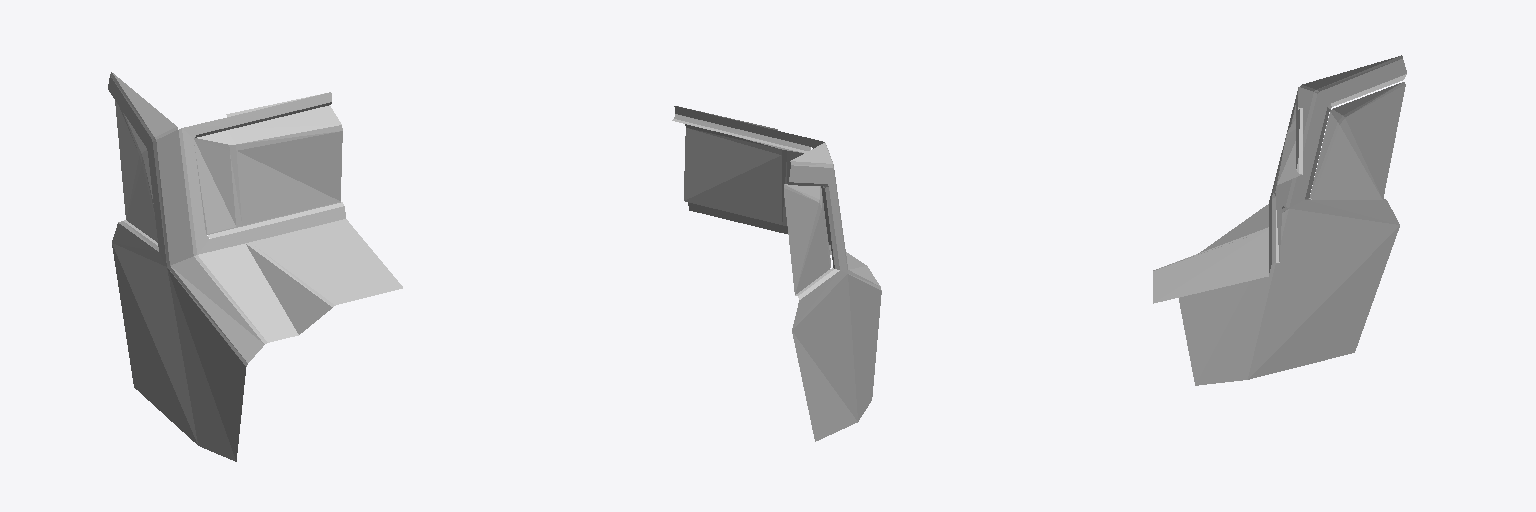
File: shard3.obj
The picture shows the model from 3 angles: view 1: azimuth 30°, elevation 25°; view 2: azimuth 150°, elevation 25°; view 3: azimuth 270°, elevation 25°; orthographic projection.
Parts seen in each view (by area): view 1: defaultMaterial.001; view 2: defaultMaterial.001; view 3: defaultMaterial.001.
Boxes of the visible parts, x1,y1,x2,y2 form: defaultMaterial.001: [108, 72, 402, 461]; defaultMaterial.001: [672, 106, 881, 441]; defaultMaterial.001: [1153, 55, 1406, 385].
Bounding box in the file's own units: 5.39 × 9.75 × 7.04.